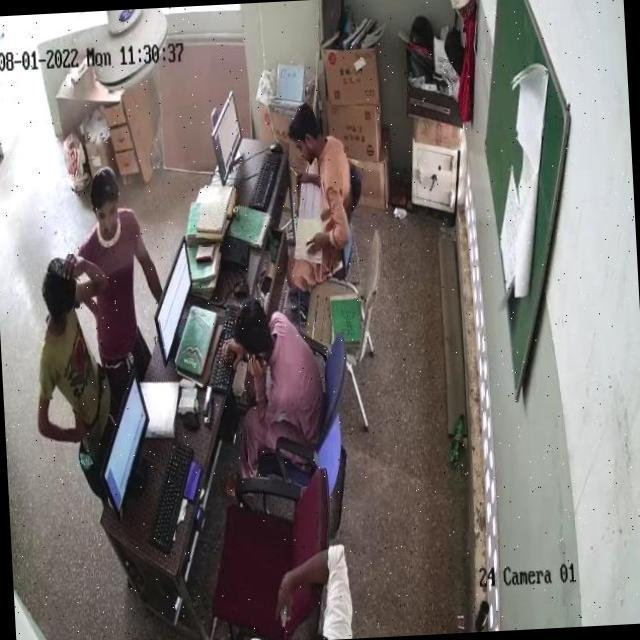person: (71, 175, 144, 378), (38, 262, 106, 450), (284, 98, 349, 282), (238, 294, 320, 436)
